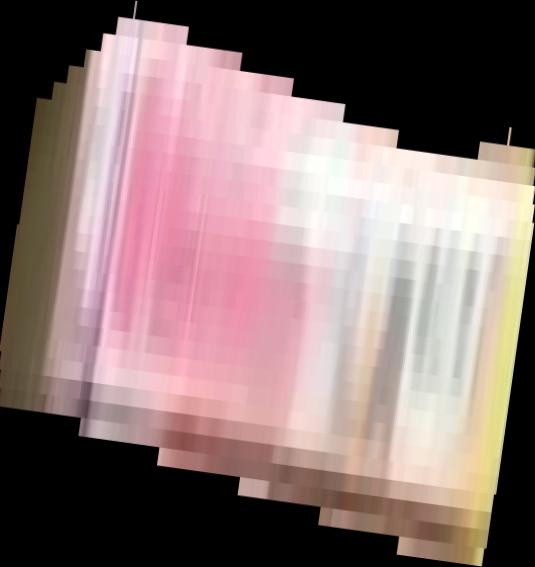flat: (1, 1, 535, 567)
